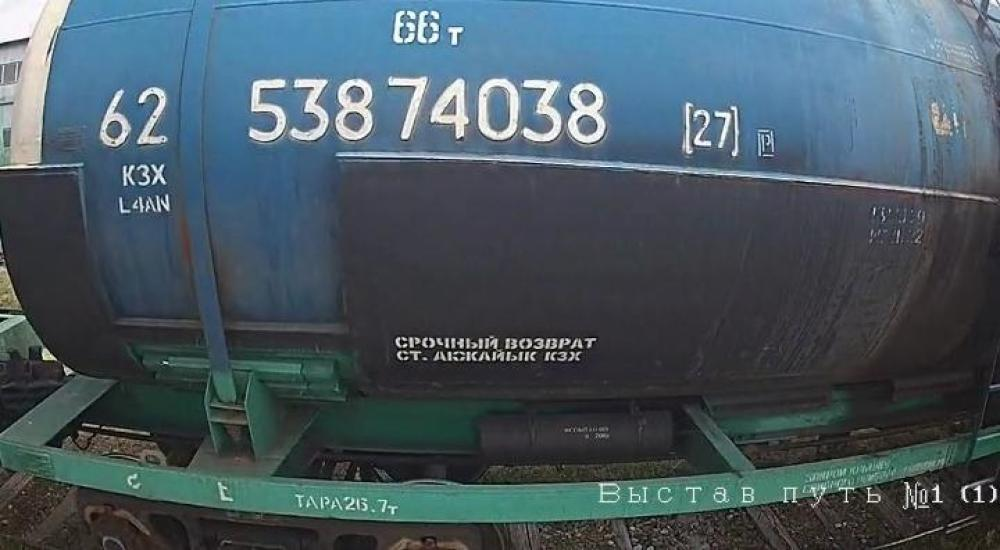Wagon-number: (241, 71, 610, 149)
